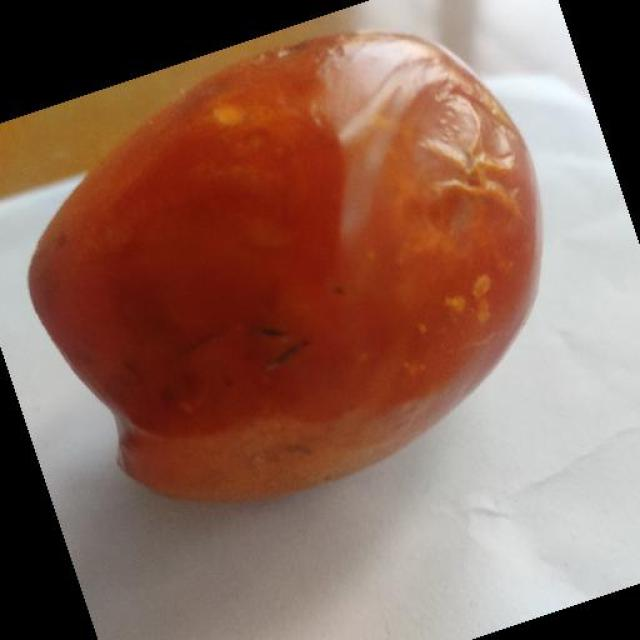Stale_tomato: (63, 95, 530, 487)
